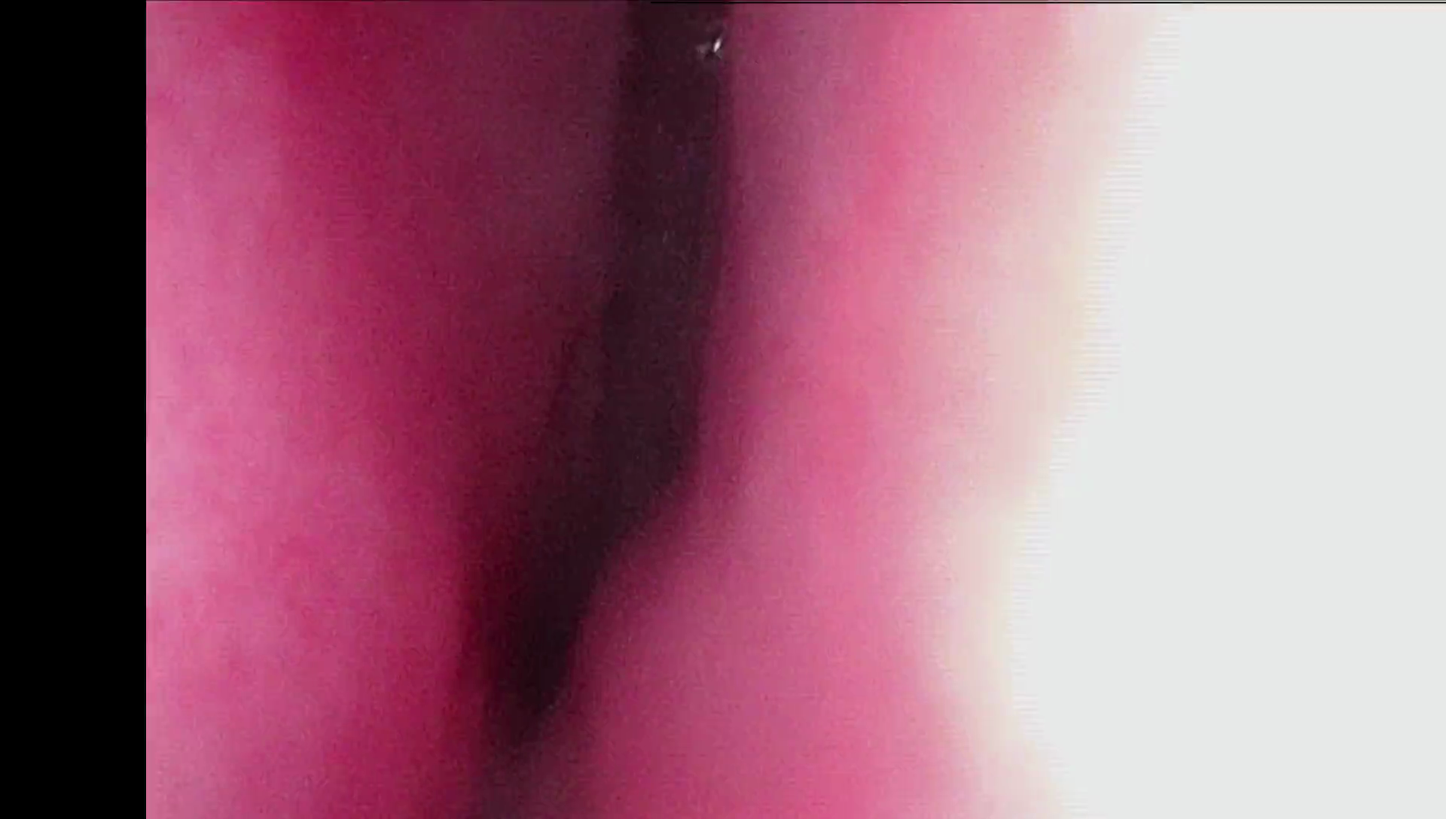close_wall: (806, 1, 1446, 819), (149, 34, 399, 819)
next: (447, 366, 740, 772)
